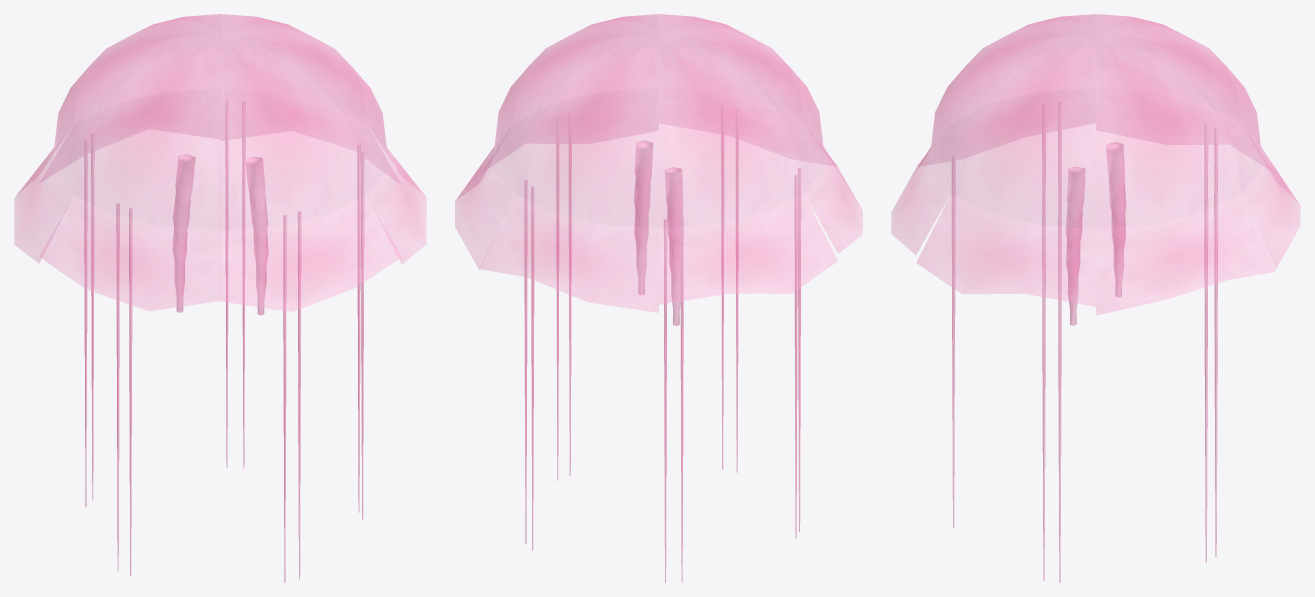
The model's file is lantern_jelly.glb.
3 views of the same model, side by side, from view 1: azimuth 30°, elevation 25°; view 2: azimuth 150°, elevation 25°; view 3: azimuth 270°, elevation 25° (orthographic).
Bounding box in the file's own units: 0.744 × 0.969 × 0.7327.
Materials: 2 (2 with a texture image).
